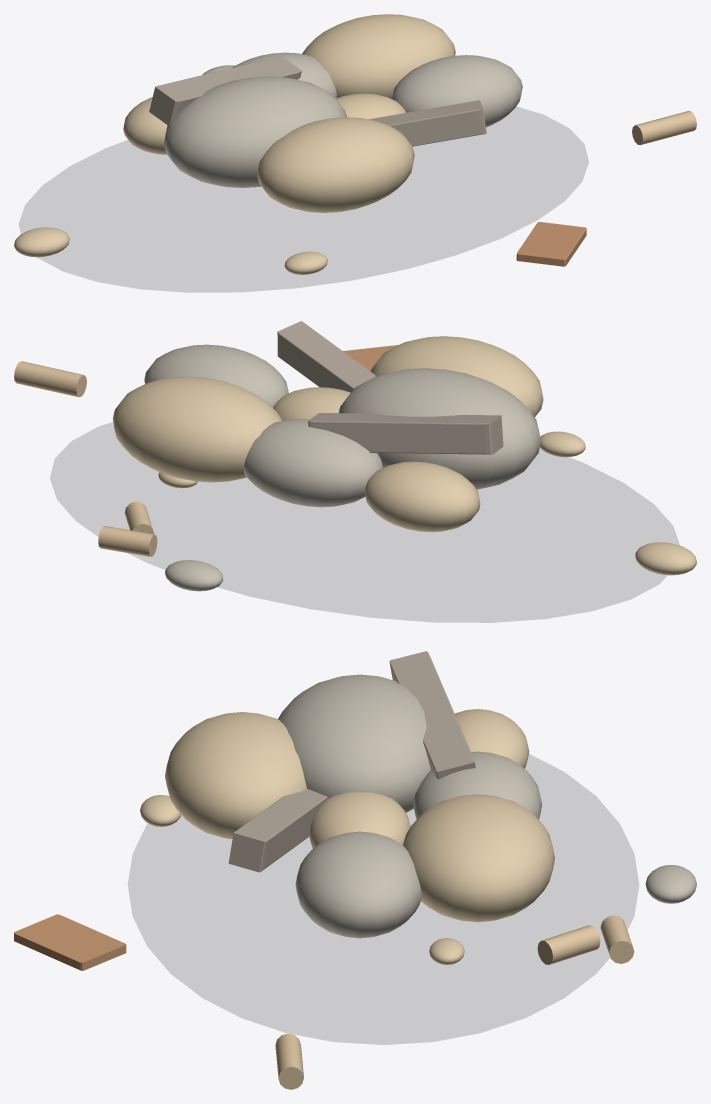
Rendered from ore_outcrop.glb.
The picture shows the model from 3 angles, top to bottom: view 1: azimuth 30°, elevation 25°; view 2: azimuth 150°, elevation 25°; view 3: azimuth 270°, elevation 25°; orthographic projection. The views are drawn at different scales.
Visible parts, largest first — view 1: painted_contact_shadow, angular_wasteland_rock_3, angular_wasteland_rock_6, angular_wasteland_rock_2, angular_wasteland_rock_5, visible_iron_vein_a, visible_iron_vein_b, loose_scrap_flake_6, angular_wasteland_rock_0, discarded_bolt_detail_2, ground_pebble_detail_7, angular_wasteland_rock_4 (+2 smaller); view 2: painted_contact_shadow, angular_wasteland_rock_2, angular_wasteland_rock_3, angular_wasteland_rock_1, visible_iron_vein_a, angular_wasteland_rock_0, angular_wasteland_rock_6, angular_wasteland_rock_5, visible_iron_vein_b, angular_wasteland_rock_4, discarded_bolt_detail_2, ground_pebble_detail_7 (+5 smaller); view 3: painted_contact_shadow, angular_wasteland_rock_2, angular_wasteland_rock_3, angular_wasteland_rock_6, angular_wasteland_rock_5, visible_iron_vein_a, visible_iron_vein_b, angular_wasteland_rock_1, angular_wasteland_rock_4, loose_scrap_flake_6, angular_wasteland_rock_0, discarded_bolt_detail_3 (+5 smaller).
Boxes of the visible parts, left/top/right/bottom form: painted_contact_shadow: left=19, top=107, right=588, bottom=291; angular_wasteland_rock_3: left=164, top=76, right=346, bottom=187; angular_wasteland_rock_6: left=257, top=117, right=414, bottom=212; angular_wasteland_rock_2: left=302, top=14, right=455, bottom=98; angular_wasteland_rock_5: left=392, top=55, right=522, bottom=127; visible_iron_vein_a: left=149, top=56, right=301, bottom=125; visible_iron_vein_b: left=368, top=100, right=486, bottom=146; loose_scrap_flake_6: left=516, top=222, right=586, bottom=266; angular_wasteland_rock_0: left=123, top=97, right=167, bottom=154; discarded_bolt_detail_2: left=632, top=111, right=696, bottom=145; ground_pebble_detail_7: left=14, top=227, right=69, bottom=257; angular_wasteland_rock_4: left=336, top=93, right=406, bottom=119; painted_contact_shadow: left=50, top=422, right=679, bottom=622; angular_wasteland_rock_2: left=112, top=376, right=282, bottom=482; angular_wasteland_rock_3: left=338, top=368, right=540, bottom=489; angular_wasteland_rock_1: left=243, top=419, right=382, bottom=507; visible_iron_vein_a: left=308, top=413, right=503, bottom=454; angular_wasteland_rock_0: left=364, top=461, right=480, bottom=531; angular_wasteland_rock_6: left=371, top=336, right=543, bottom=417; angular_wasteland_rock_5: left=144, top=344, right=288, bottom=407; visible_iron_vein_b: left=277, top=321, right=375, bottom=392; angular_wasteland_rock_4: left=273, top=387, right=350, bottom=420; discarded_bolt_detail_2: left=14, top=361, right=86, bottom=397; ground_pebble_detail_7: left=635, top=542, right=696, bottom=575; painted_contact_shadow: left=128, top=754, right=638, bottom=1044; angular_wasteland_rock_2: left=403, top=794, right=554, bottom=922; angular_wasteland_rock_3: left=278, top=674, right=430, bottom=812; angular_wasteland_rock_6: left=165, top=712, right=306, bottom=838; angular_wasteland_rock_5: left=295, top=831, right=421, bottom=938; visible_iron_vein_a: left=389, top=651, right=475, bottom=779; visible_iron_vein_b: left=228, top=788, right=327, bottom=872; angular_wasteland_rock_1: left=413, top=751, right=541, bottom=819; angular_wasteland_rock_4: left=309, top=792, right=410, bottom=848; loose_scrap_flake_6: left=14, top=914, right=126, bottom=970; angular_wasteland_rock_0: left=454, top=709, right=529, bottom=768; discarded_bolt_detail_3: left=537, top=925, right=600, bottom=964.
Bounding box in the file's own units: 1.79 × 0.3364 × 1.33.
